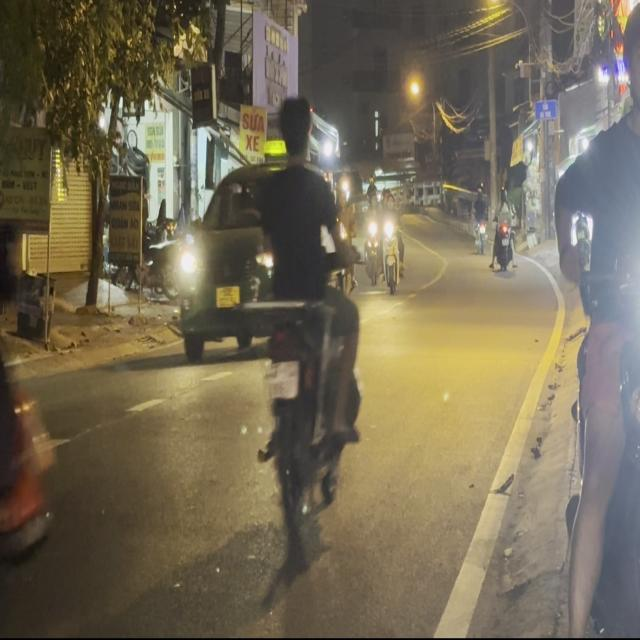licenseplate: (247, 89, 365, 616)
motorcyclist: (276, 94, 313, 161)
nohelmet: (262, 359, 298, 397)
